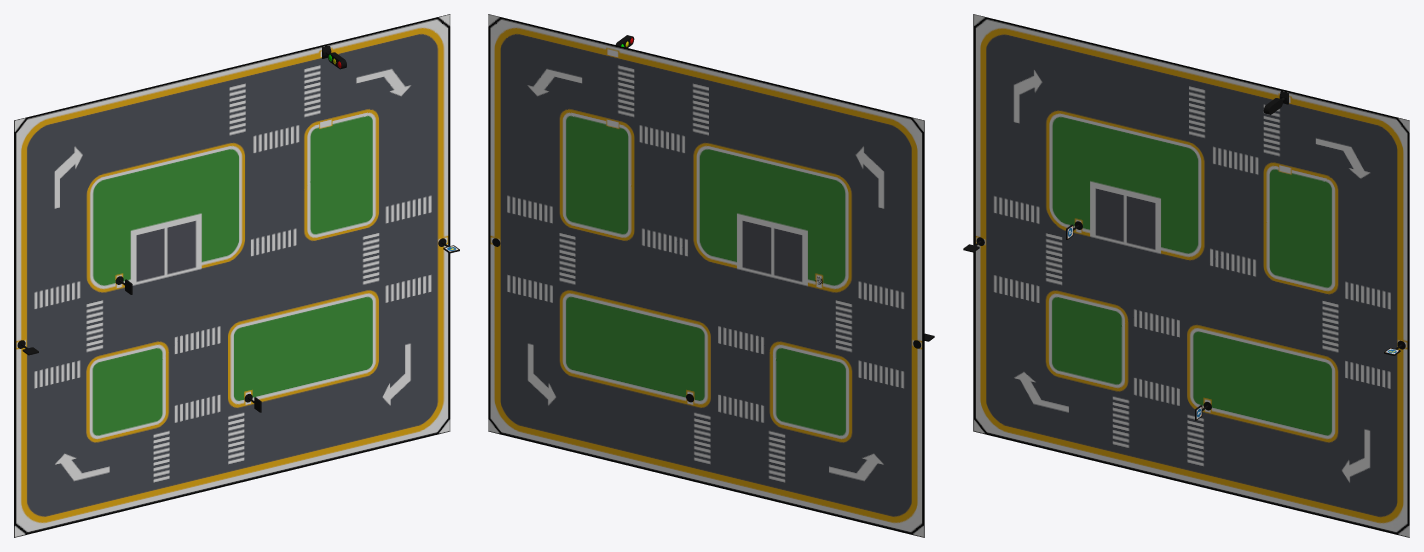
Rendered from parking_map.obj.
The picture shows the model from 3 angles, left to right: view 1: azimuth 30°, elevation 25°; view 2: azimuth 150°, elevation 25°; view 3: azimuth 330°, elevation 25°; orthographic projection.
Visible parts, largest first — view 1: Plane; view 2: Plane; view 3: Plane.
Boxes of the visible parts, x1,y1,x2,y2 form: Plane: [14, 14, 450, 537]; Plane: [488, 14, 924, 537]; Plane: [973, 14, 1409, 537].
Bounding box in the file's own units: 3.26 × 2.98 × 0.241.
Materials: 14 (4 with a texture image).
